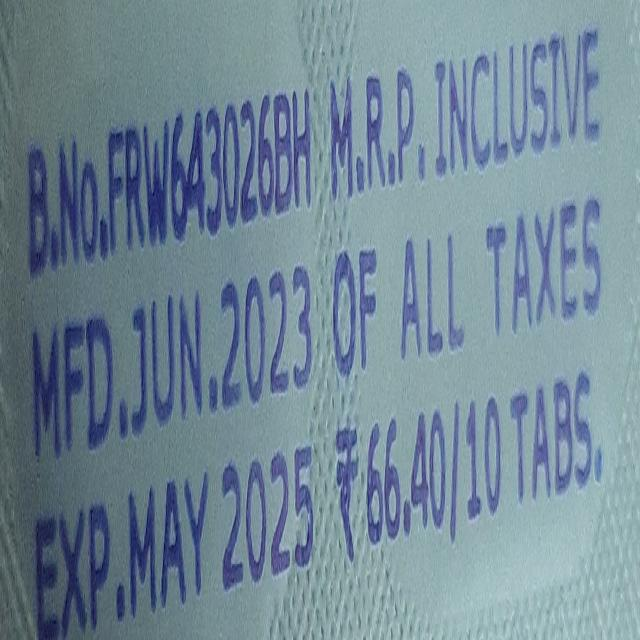sentence: (35, 371, 600, 638), (31, 196, 601, 458), (28, 33, 600, 273)
